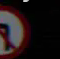Don't turn left: (1, 4, 34, 55)
